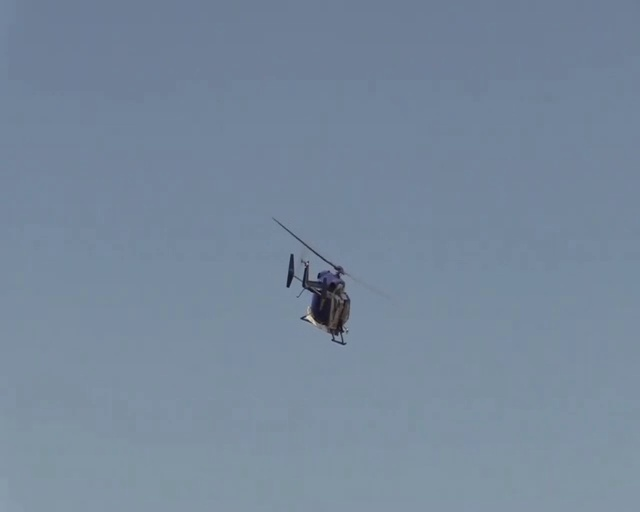HELICOPTER: (270, 215, 392, 345)
